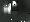person: (13, 3, 19, 15), (5, 4, 11, 15)
